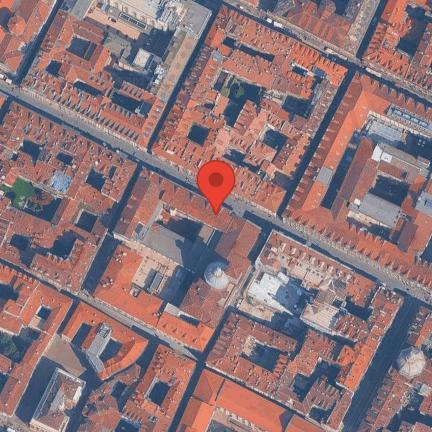area_open: (234, 267, 317, 342), (82, 0, 173, 59), (121, 238, 196, 308)
built: (284, 72, 432, 293), (0, 102, 143, 206), (20, 66, 167, 150), (320, 197, 431, 292), (258, 230, 380, 313), (175, 369, 334, 432), (153, 42, 230, 165), (205, 312, 299, 399), (243, 0, 380, 58), (32, 10, 119, 98), (60, 303, 151, 383), (336, 287, 405, 391), (343, 140, 432, 218), (206, 5, 298, 78), (123, 345, 200, 432), (358, 343, 432, 432), (0, 192, 78, 271), (92, 245, 165, 329), (194, 121, 264, 199), (272, 369, 355, 432), (0, 327, 55, 417), (3, 139, 83, 200), (1, 0, 60, 82), (112, 167, 173, 245), (175, 89, 230, 173), (50, 184, 121, 249), (76, 363, 140, 432), (29, 237, 99, 296), (145, 30, 199, 104), (114, 0, 213, 39), (164, 183, 236, 233), (30, 369, 87, 432), (286, 325, 354, 377), (302, 292, 371, 343), (143, 222, 209, 272), (287, 42, 350, 90), (0, 261, 41, 334), (222, 122, 278, 175), (20, 285, 75, 338), (365, 21, 415, 79), (268, 114, 313, 178), (180, 277, 232, 331), (291, 81, 338, 140), (215, 214, 262, 267), (157, 311, 215, 353), (223, 54, 277, 94), (272, 60, 320, 101), (406, 22, 432, 95), (233, 101, 272, 142), (248, 177, 289, 216), (381, 0, 429, 30), (405, 305, 432, 352), (259, 97, 293, 124), (204, 261, 233, 289), (410, 210, 431, 233), (224, 262, 245, 285), (0, 88, 13, 119)
vegetation_low: (214, 72, 266, 127), (6, 178, 68, 215)
